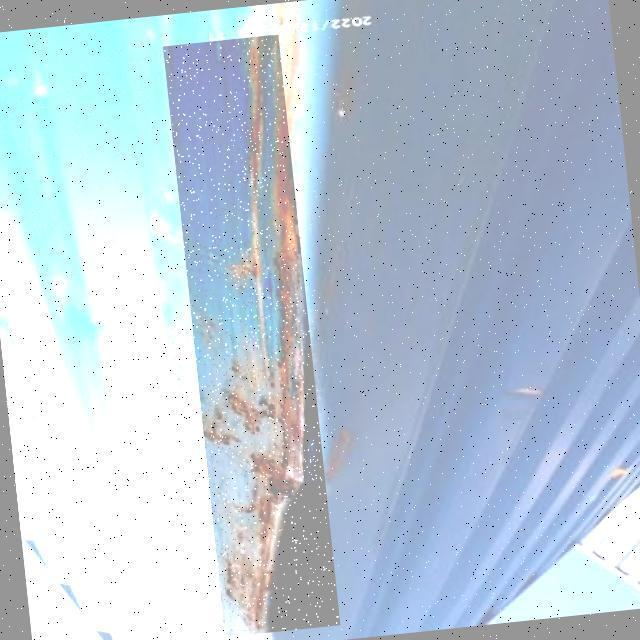rust: (164, 35, 341, 638)
